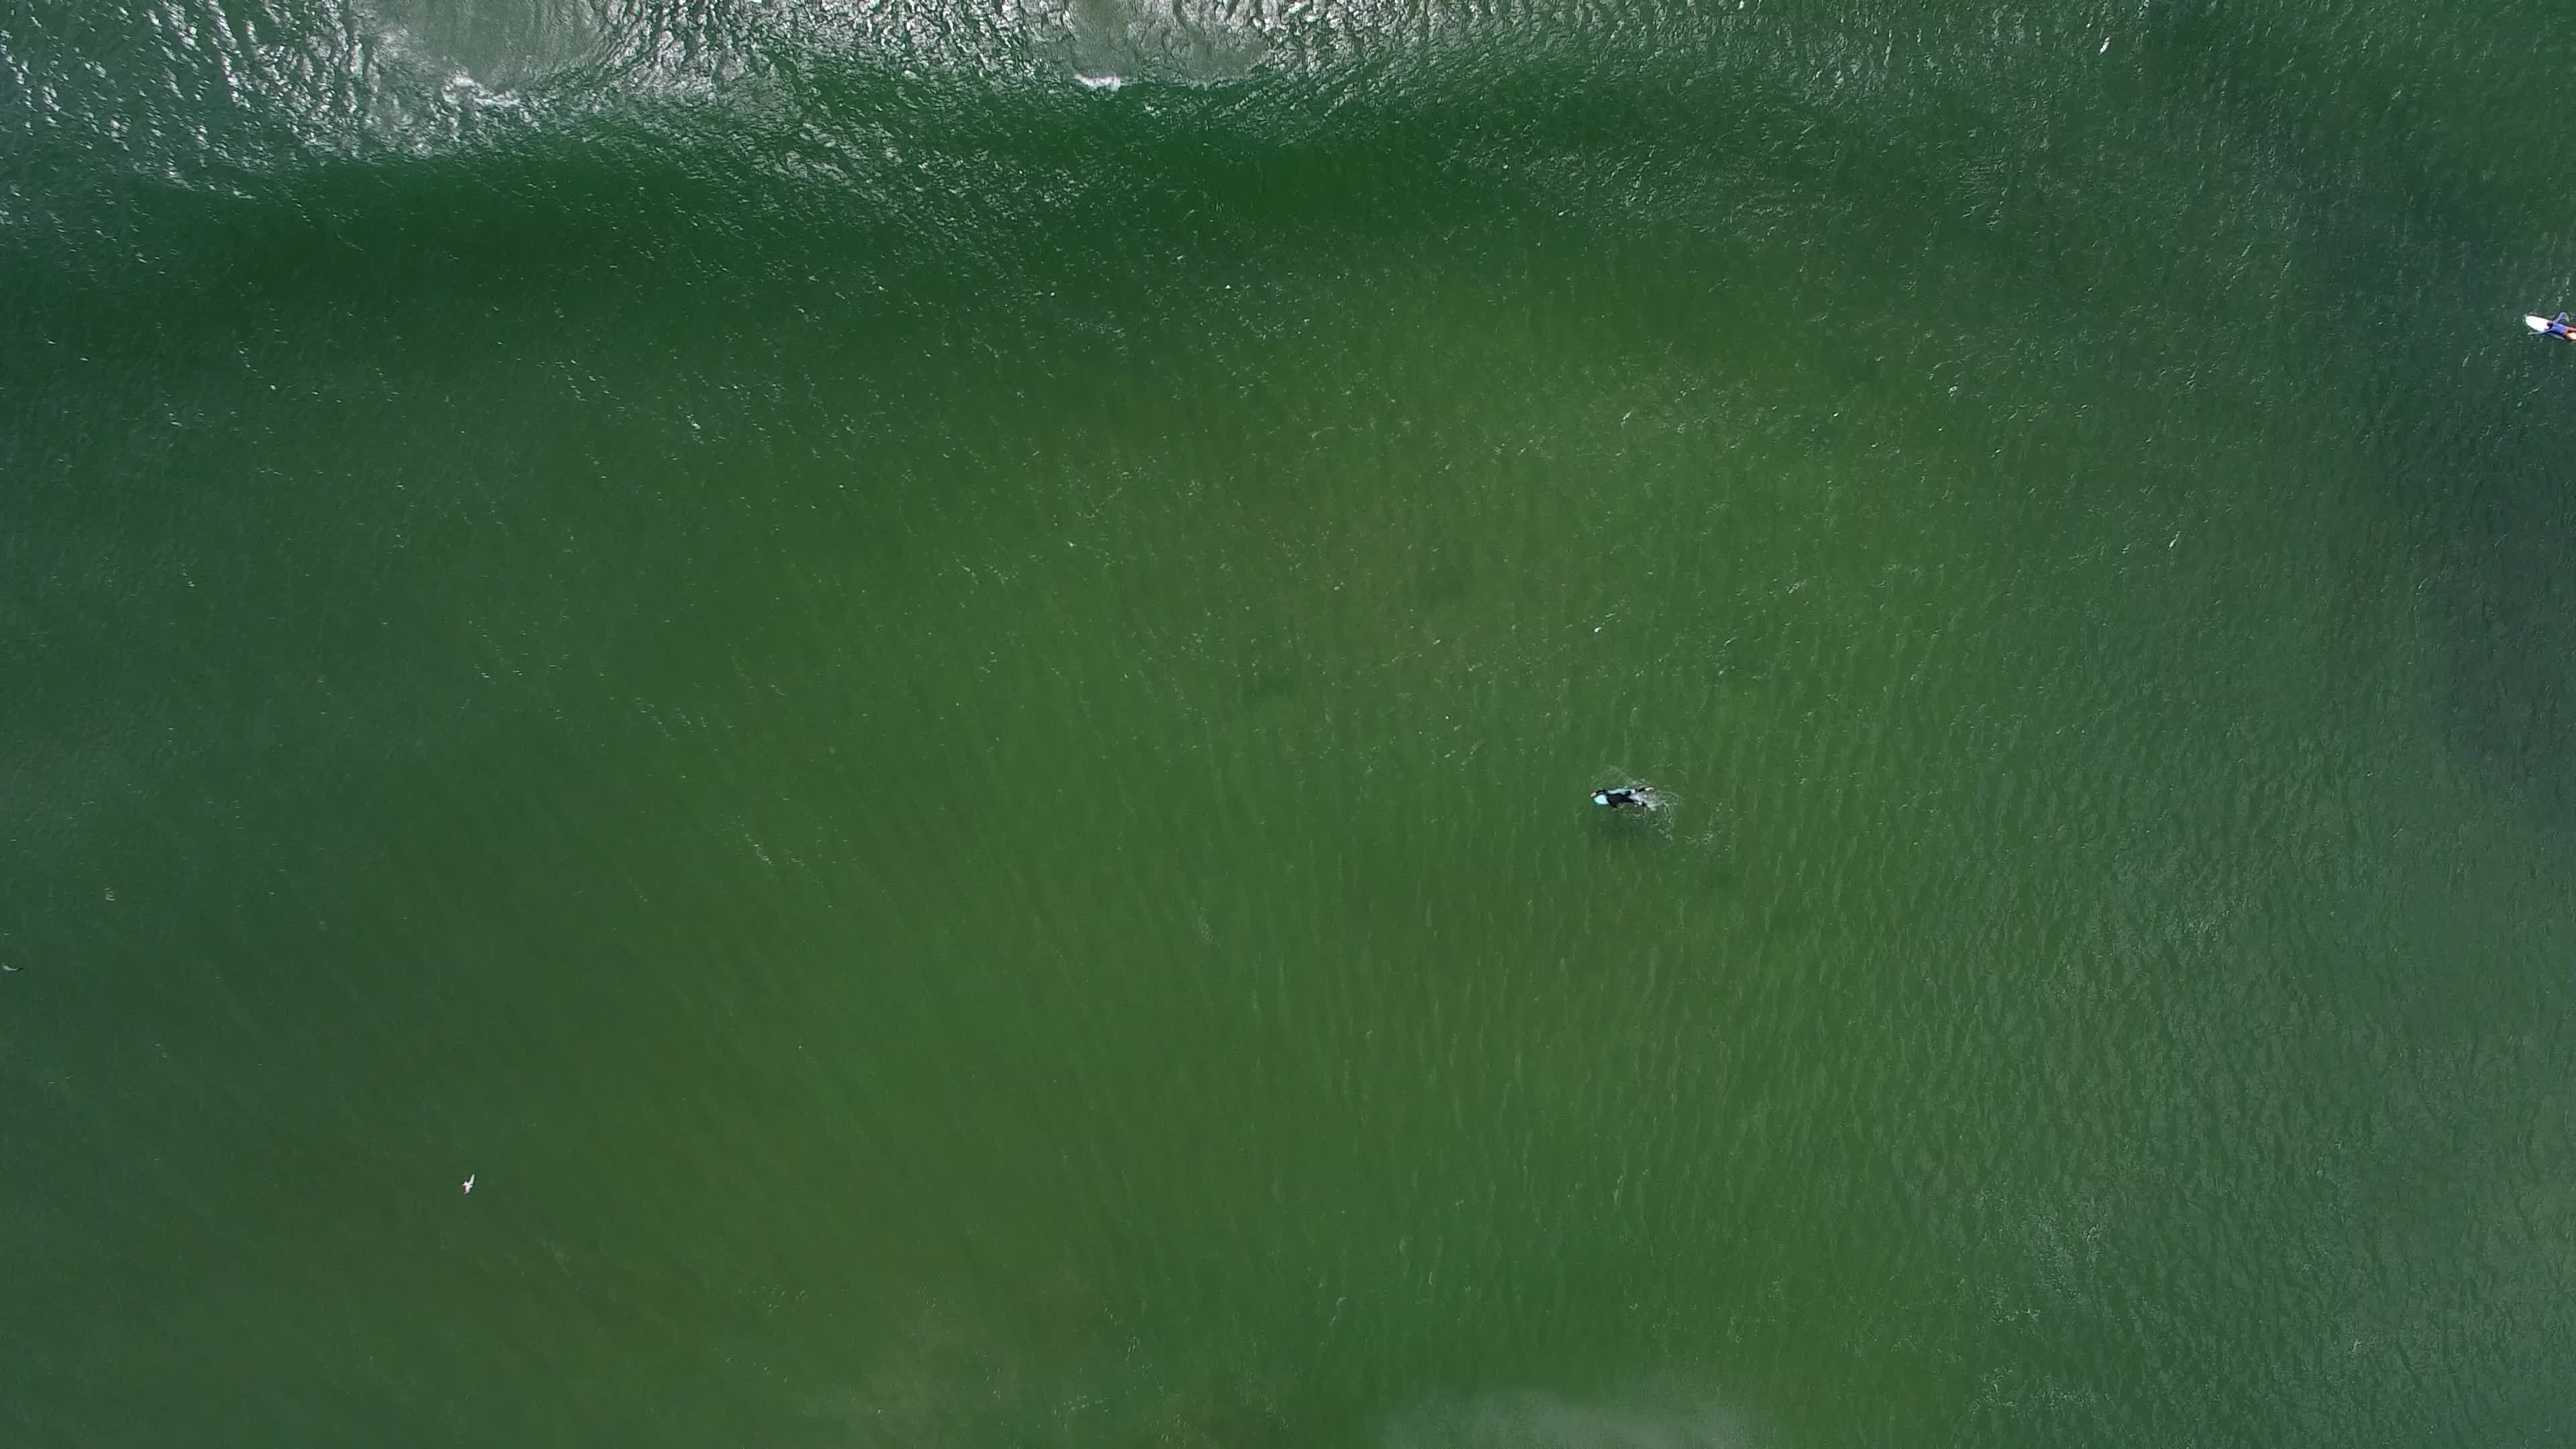surfer: (1583, 770, 1672, 823), (2514, 306, 2576, 345)
